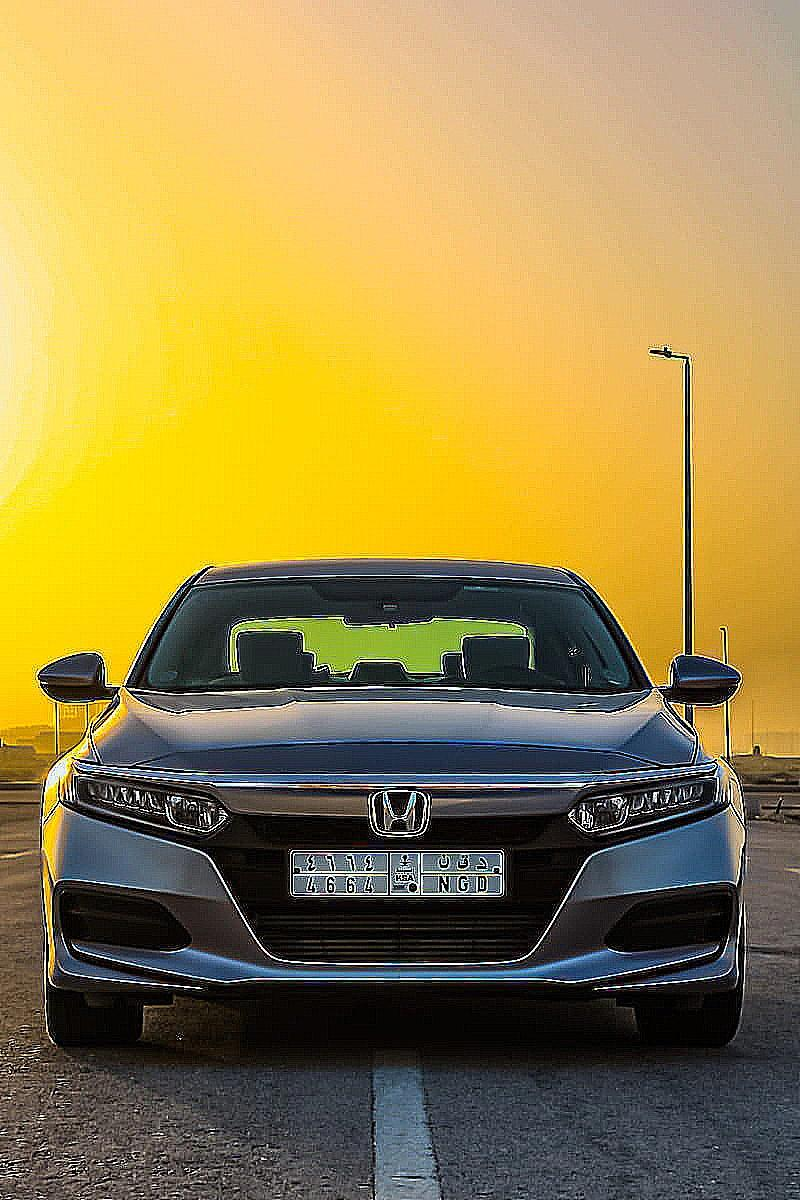Car hood: (92, 679, 707, 791)
Front bumper: (30, 814, 755, 1003)
Headlight - -L-: (559, 769, 734, 849)
Headlight - -R-: (49, 757, 240, 847)
Side mirror - -L-: (649, 647, 751, 716)
Side mirror - -R-: (29, 642, 125, 712)
